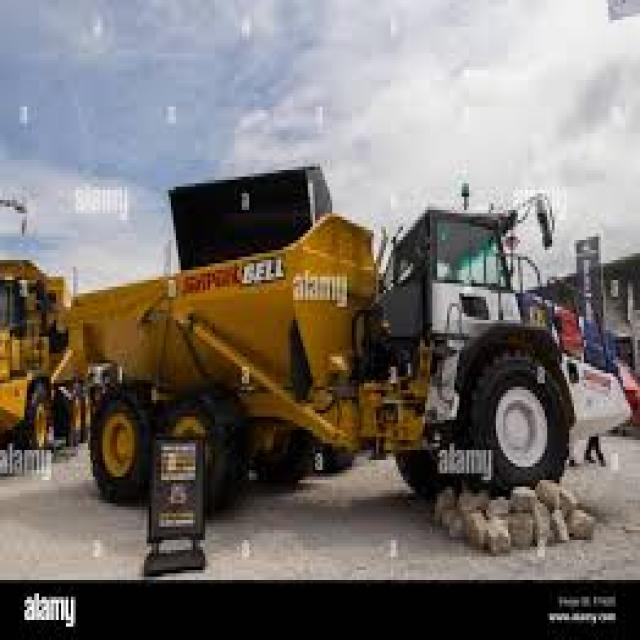dump_truck: (66, 180, 633, 527)
